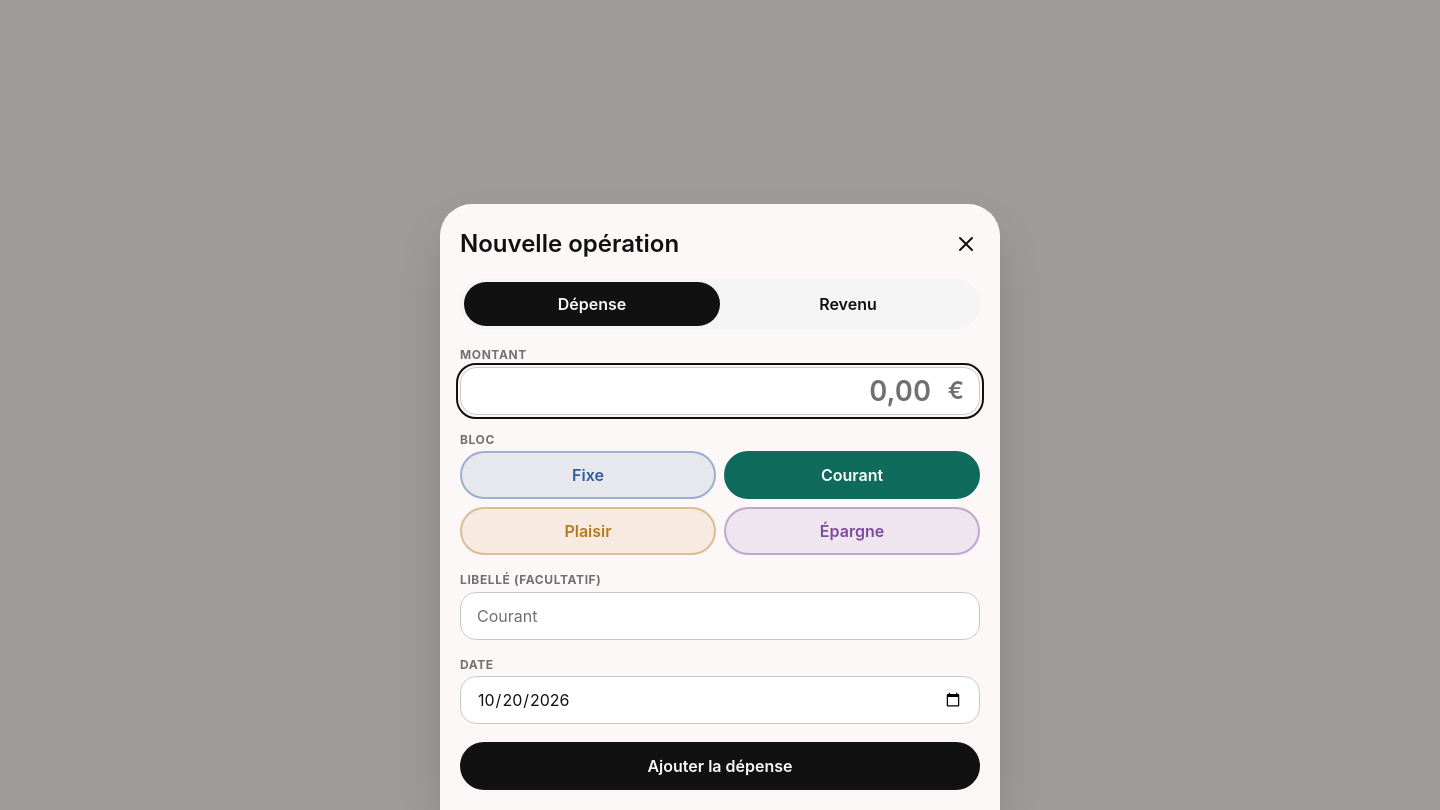
Test: QuickEntrySheet › refuses an empty amount without sending anything
Click the button "Ajouter la dépense". click: (720, 766)
box: [460, 742, 980, 790]
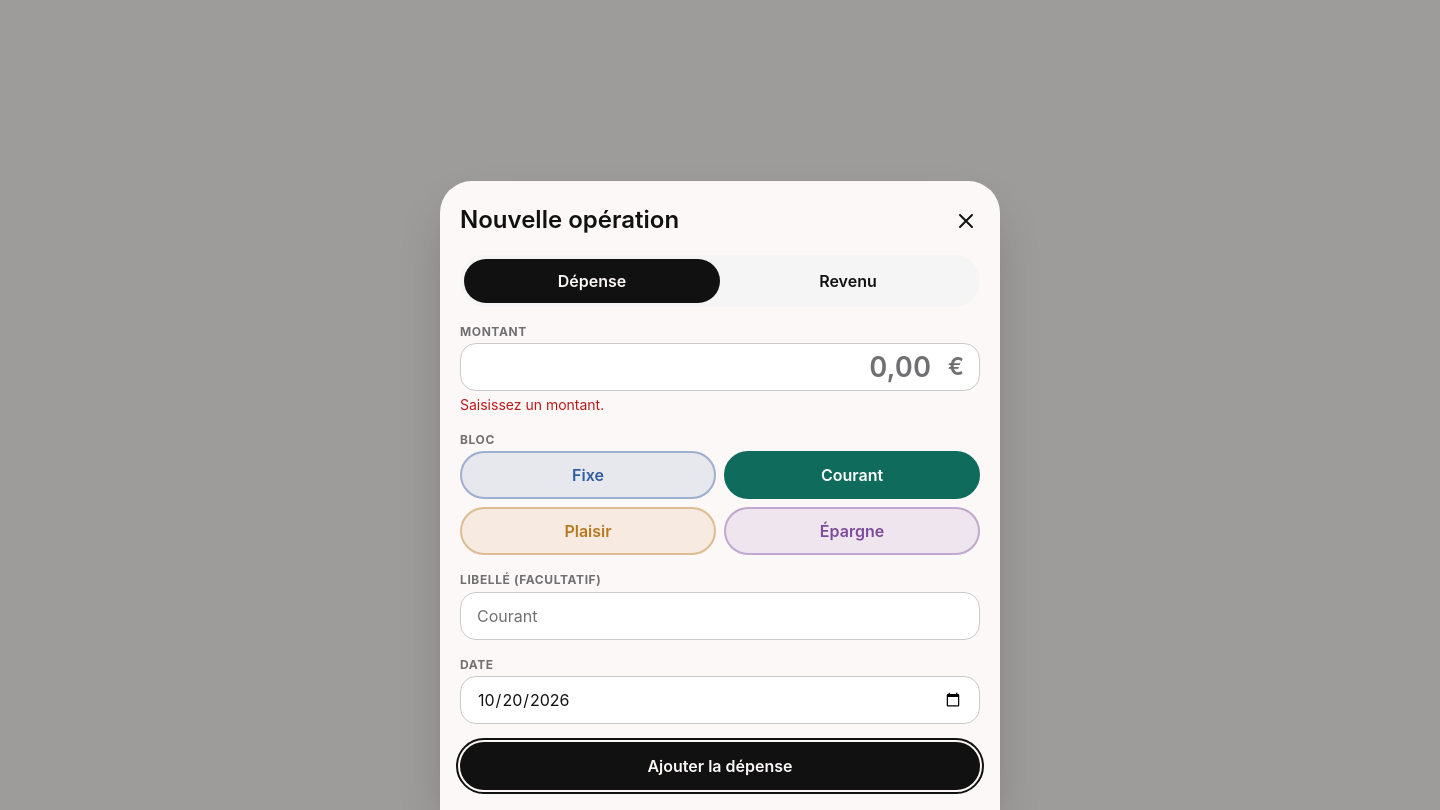
Expected: the message shows "Saisissez un montant", [460, 396, 604, 413]
